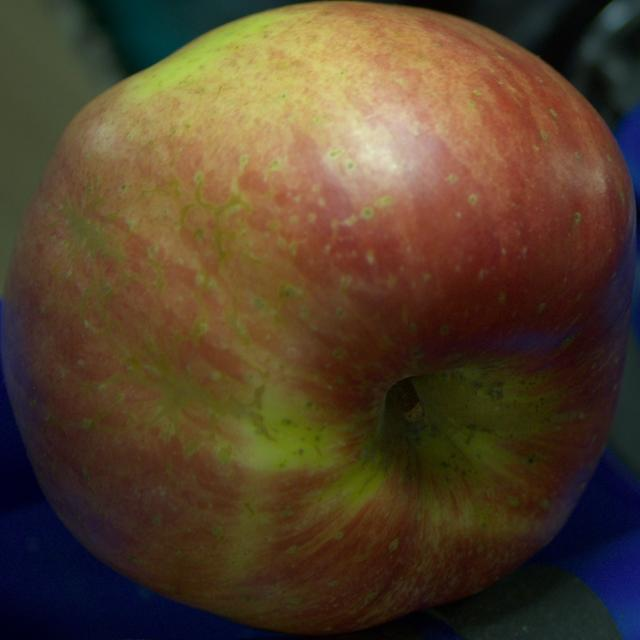apple: (1, 1, 636, 634)
